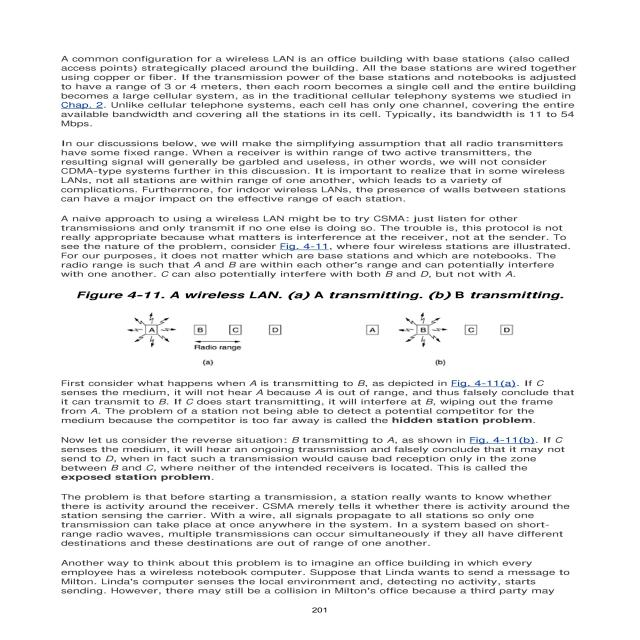diagram: (25, 285, 634, 372)
